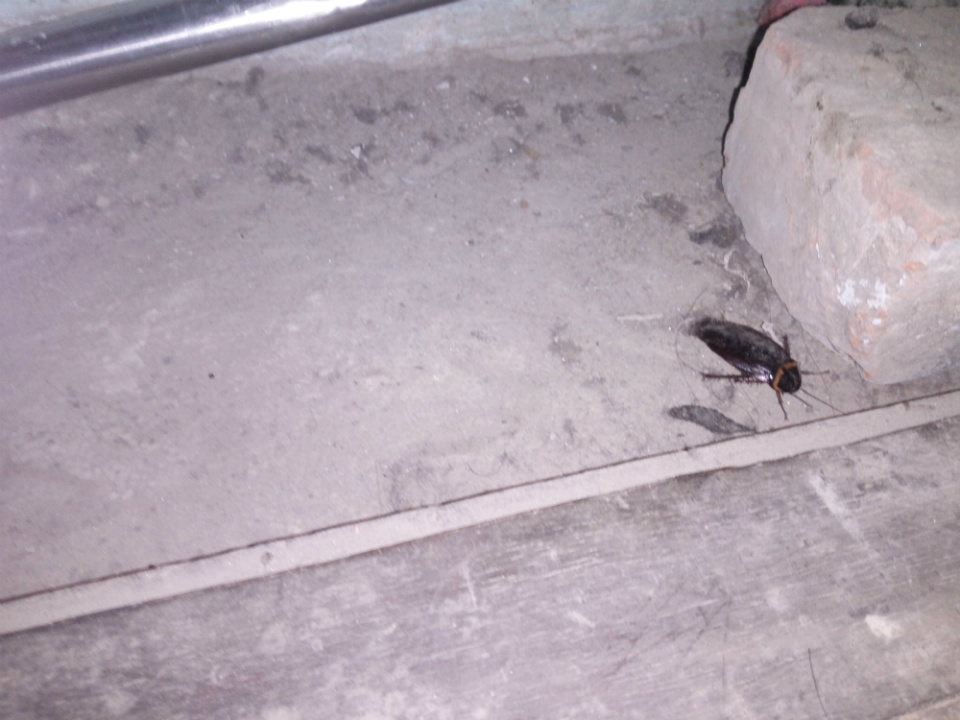cockroach: (624, 266, 823, 429)
